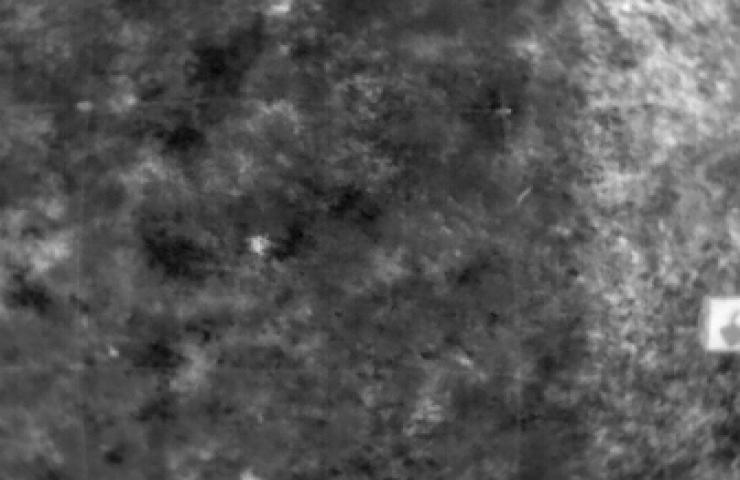landmines: (249, 231, 275, 258)
